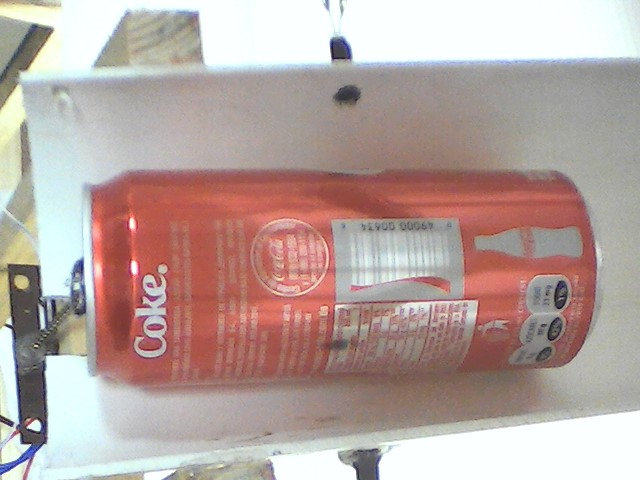lata: (65, 163, 606, 397)
